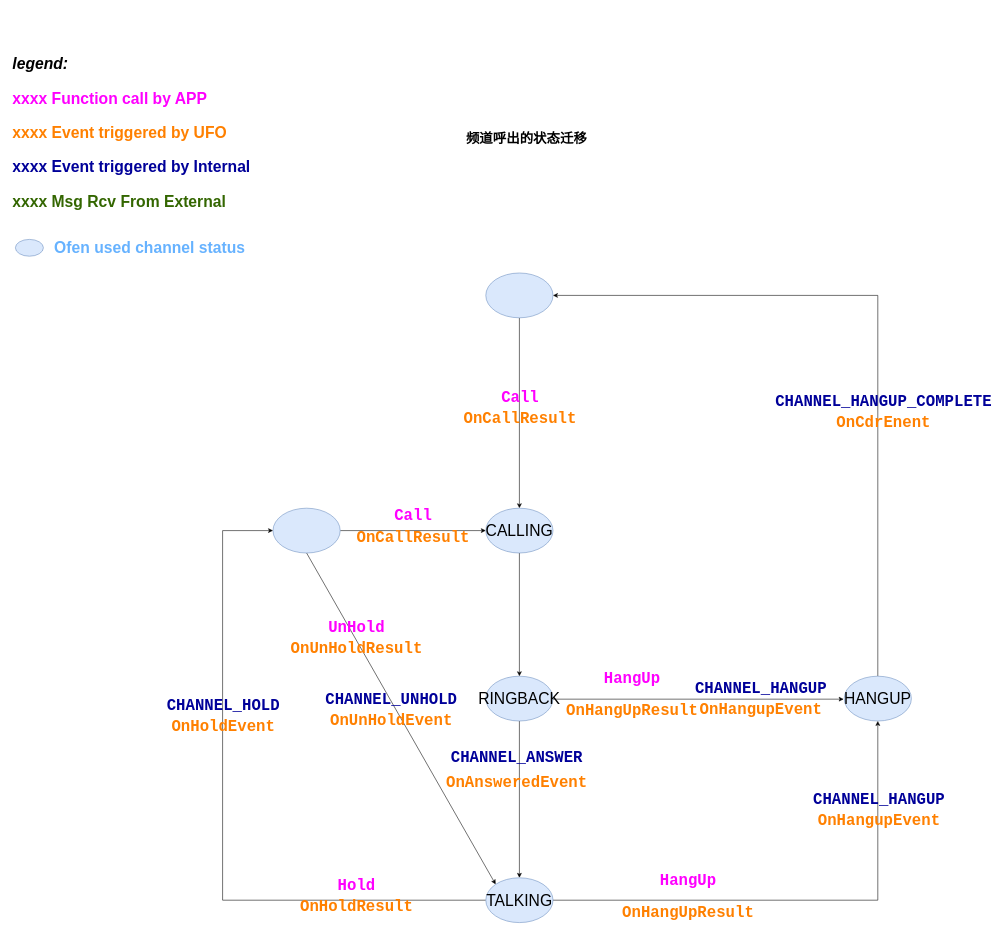
This 1001x932 diagram has some shape labels left out. Each missing label, with the centre of its shape:
"HOLDING" belongs at [306,530].
"IDLE" belongs at [519,295].
